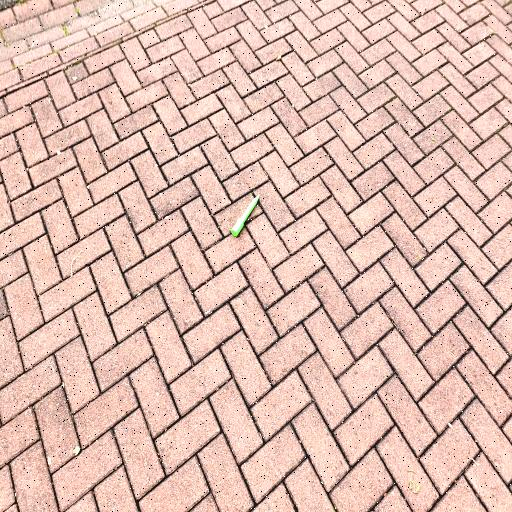Probe-Detection: (231, 195, 259, 237)
